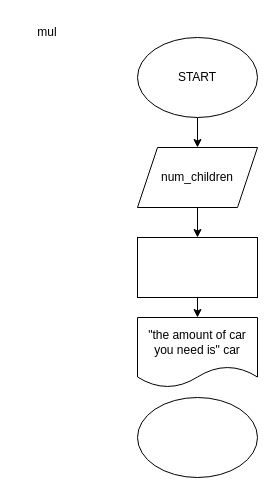
This 275x495 diagram has some shape labels left out. Here are the shapes that lost their labels. From the top down, the centre of each, then its label:
the point at 197,267: car= num_children/5
the point at 197,437: STOP
